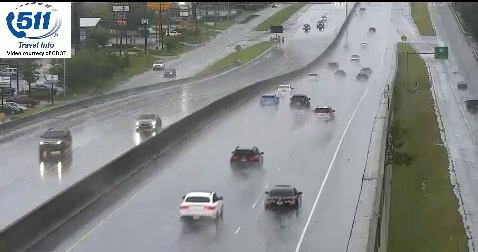car: (179, 192, 223, 221), (266, 185, 301, 211), (230, 146, 264, 169), (290, 94, 311, 111), (312, 106, 334, 121), (259, 94, 278, 107), (277, 84, 292, 97)
